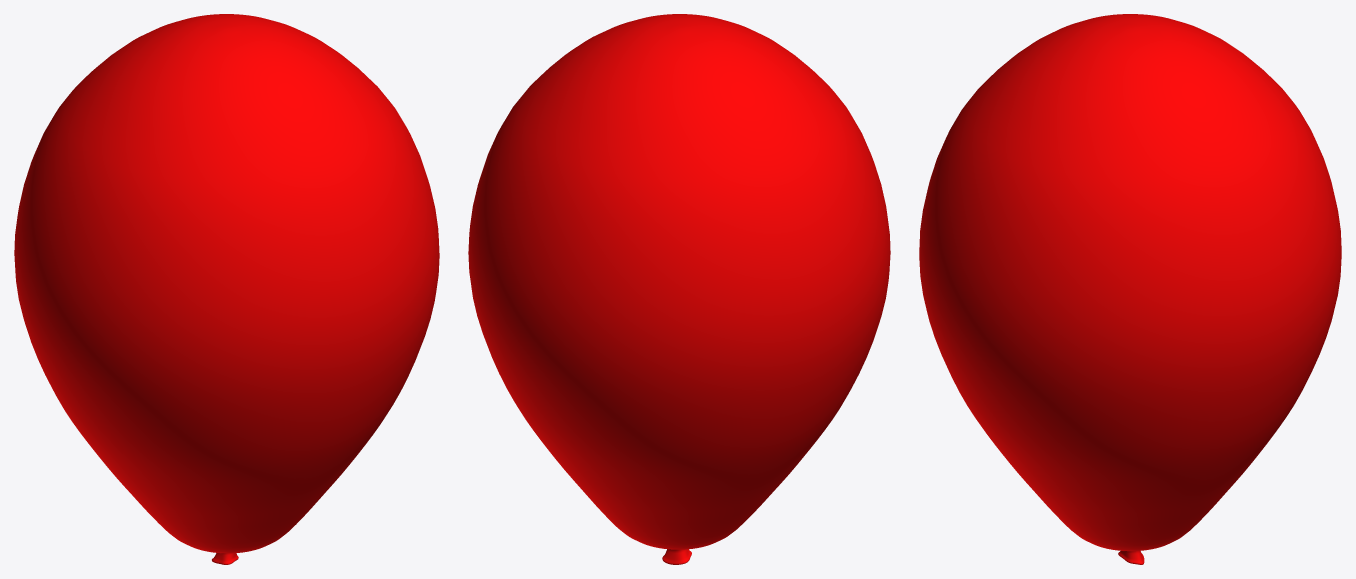
The model's file is balloon.glb.
The picture shows the model from 3 angles, left to right: view 1: azimuth 30°, elevation 25°; view 2: azimuth 150°, elevation 25°; view 3: azimuth 270°, elevation 25°; orthographic projection.
Parts seen in each view (by area): view 1: 11inch-tied.001; view 2: 11inch-tied.001; view 3: 11inch-tied.001.
Boxes of the visible parts, left/top/right/bottom form: 11inch-tied.001: left=14, top=14, right=439, bottom=564; 11inch-tied.001: left=468, top=14, right=890, bottom=564; 11inch-tied.001: left=919, top=14, right=1341, bottom=564.
Bounding box in the file's own units: 0.2801 × 0.3898 × 0.2801.
